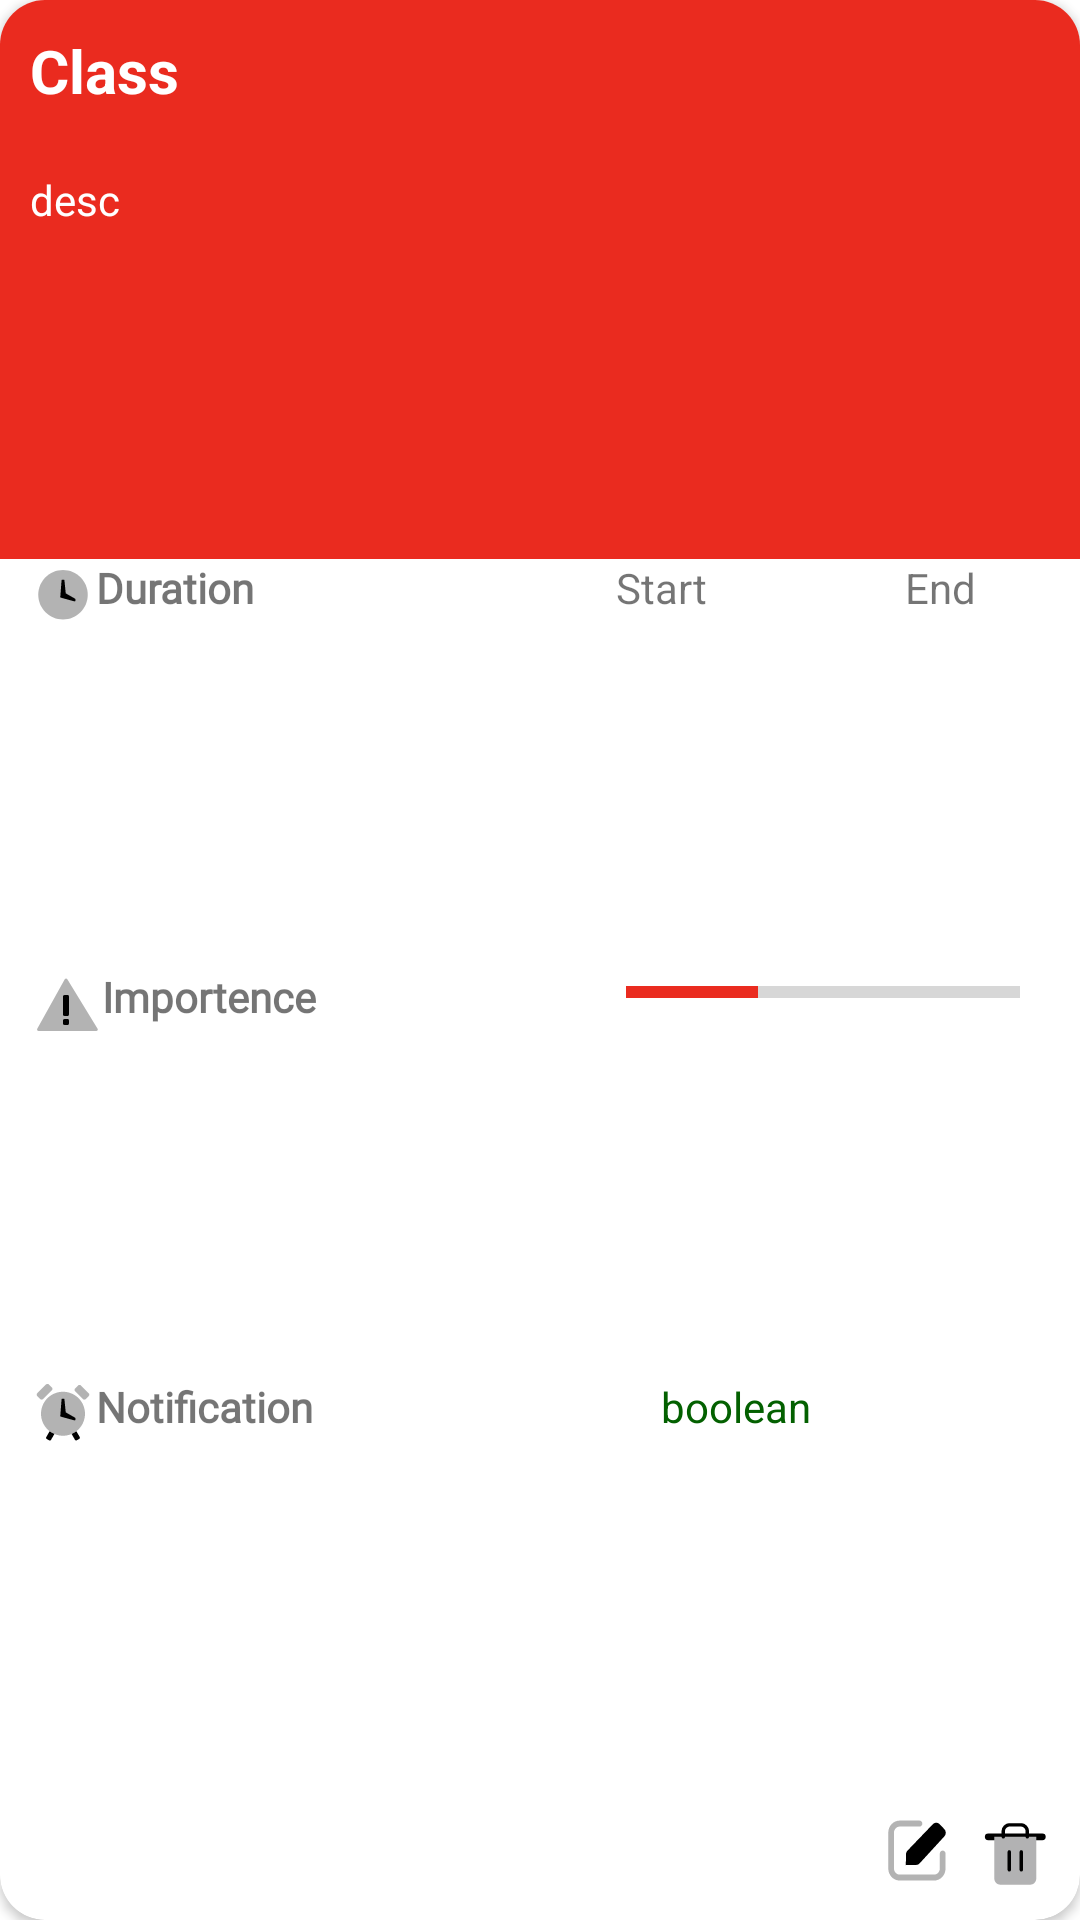

Icons on this 1080px×1920px Android screen, each with the point to tap as point (x, y):
Delete: point (1015, 1854)
Edit: point (917, 1850)
